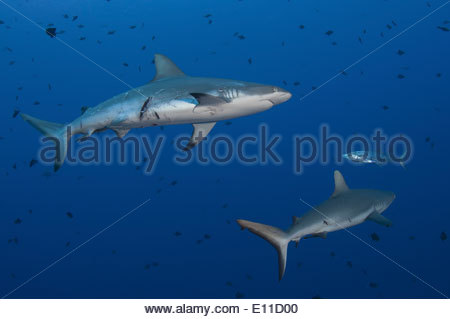Carcharhinus_amblyrhynchos: (17, 51, 293, 174), (232, 165, 396, 282)
